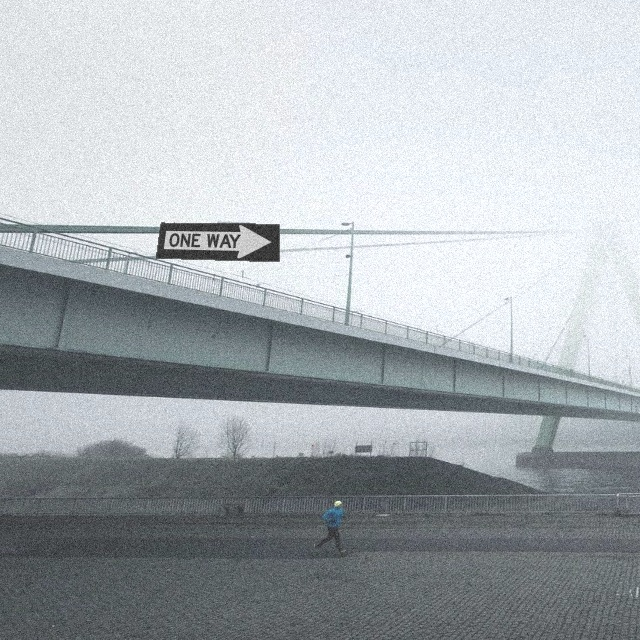ONE_WAY_ right: (155, 222, 280, 262)
